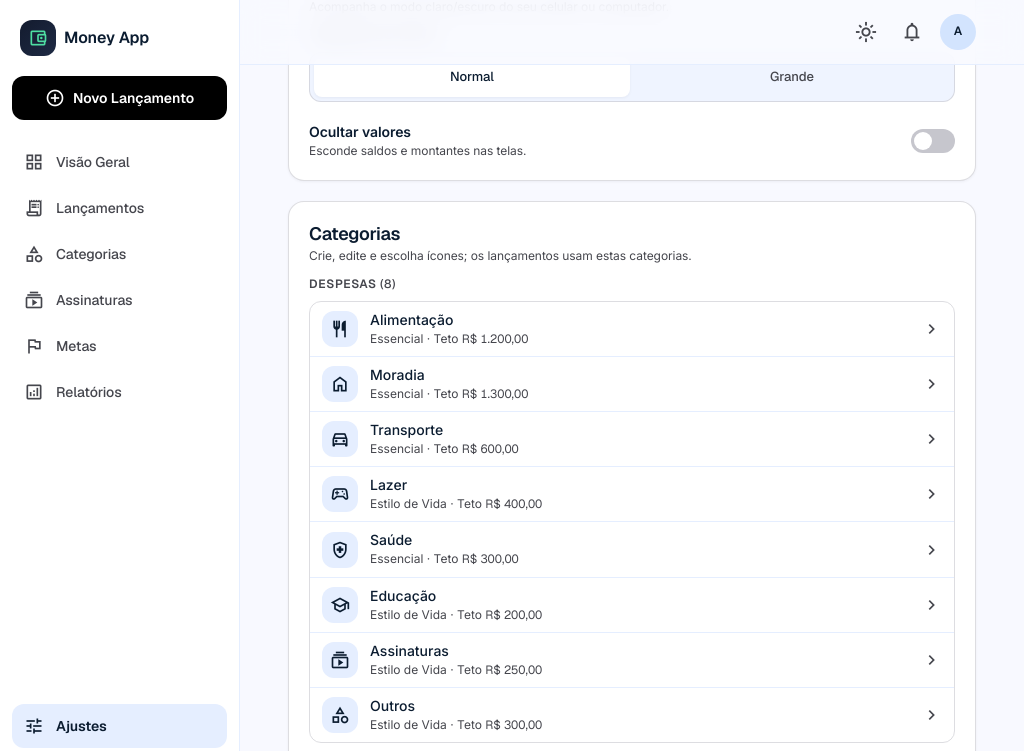
categorias em Ajustes › restaura uma categoria padrão excluída sem duplicar as existentes
The width and height of the screenshot is (1024, 751).
(page scrolled)
Step 1. Click the button with aria-label "Editar categoria Moradia" → (340, 384), box [310,357,954,411]
(page scrolled)
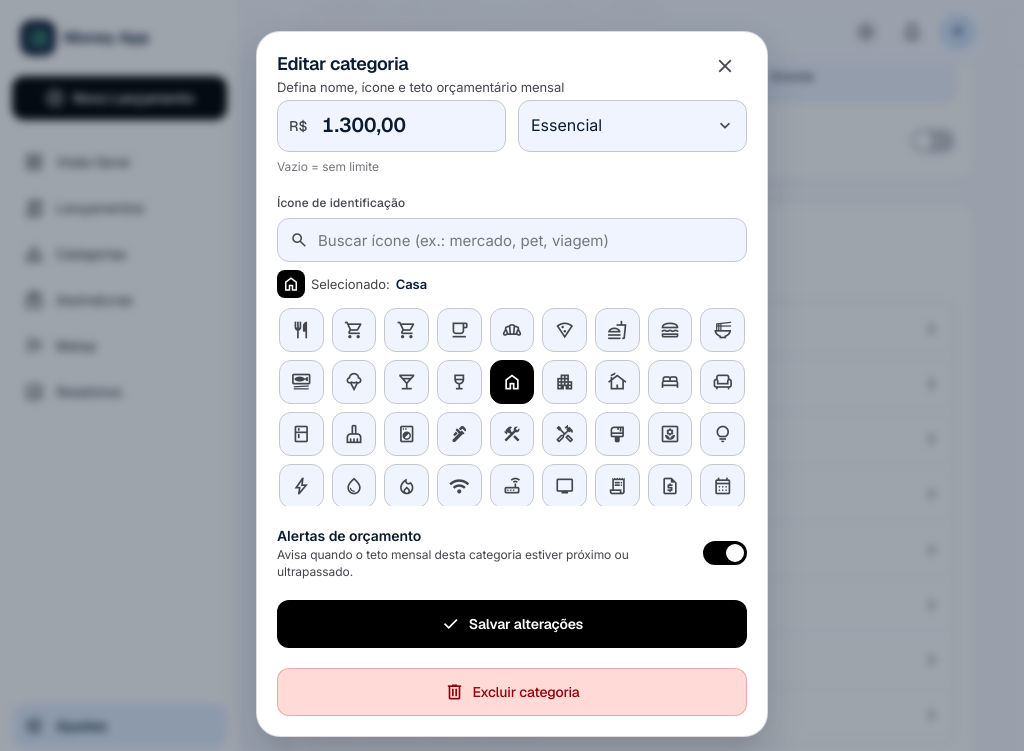
Step 2. Click the button "Excluir categoria" → (512, 692), box [277,668,747,716]
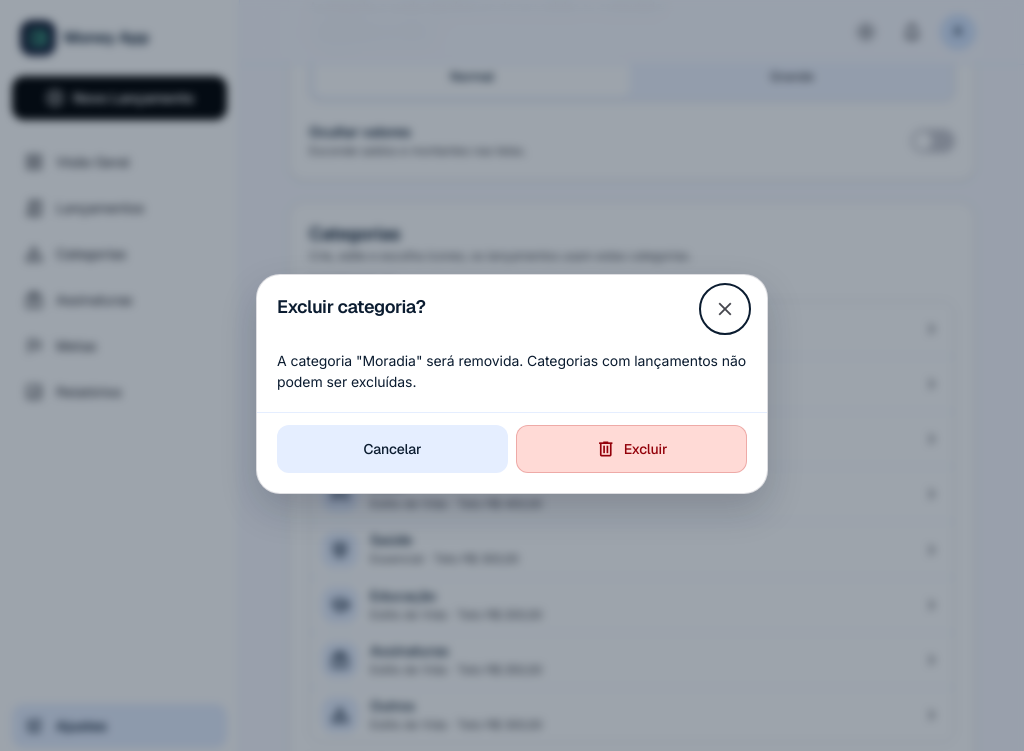
Step 3. Click the button "Excluir" → (632, 448), box [516,424,747,472]
(page scrolled)
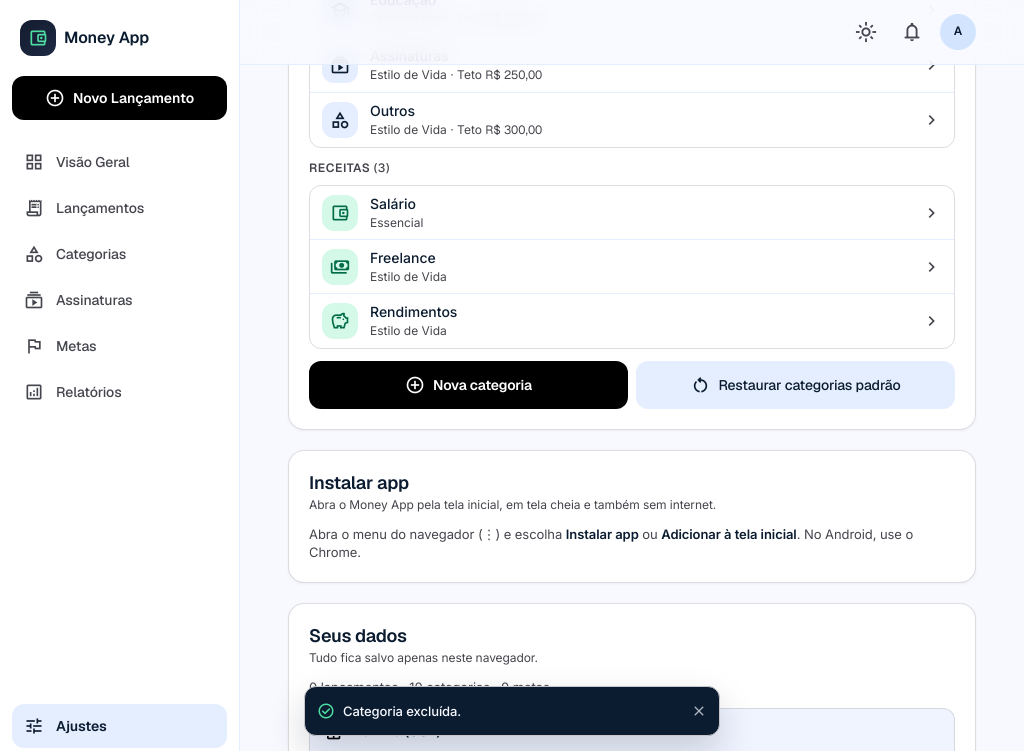
Step 4. Click the button "Restaurar categorias padrão" → (796, 385), box [636,361,955,409]
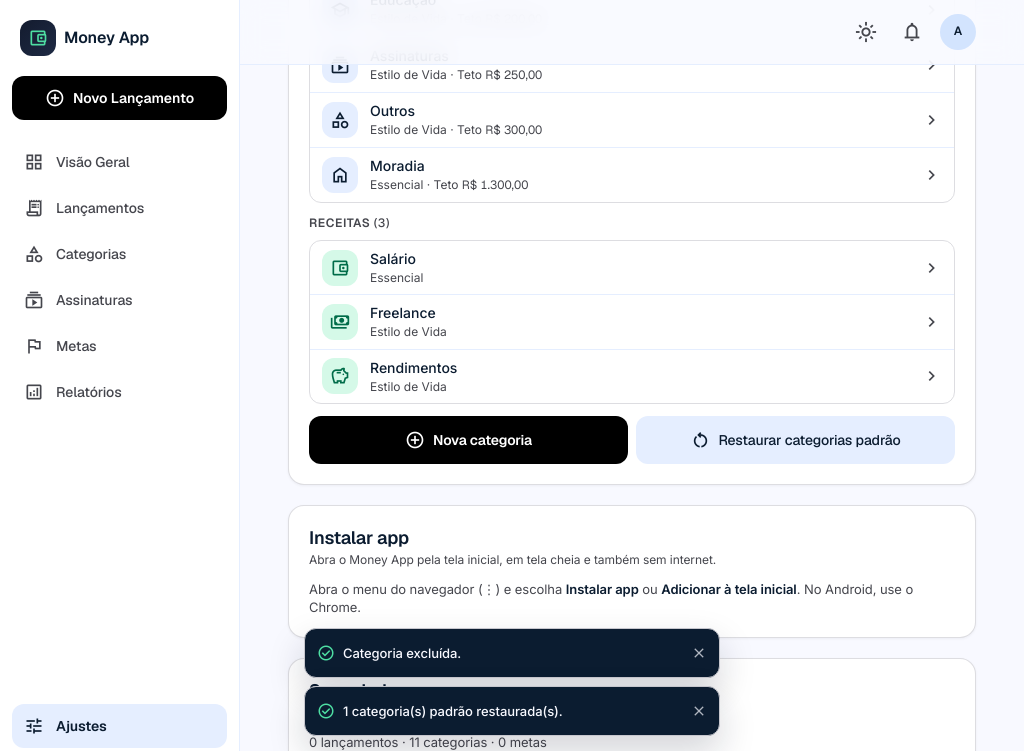
Check: the text "1 categoria(s) padrão restaurada(s)." is shown, box [343,703,563,719]
Check: the button with aria-label "Editar categoria Moradia" is shown, box [310,148,954,202]
Step 5. Click the button "Restaurar categorias padrão" → (796, 440), box [636,416,955,464]
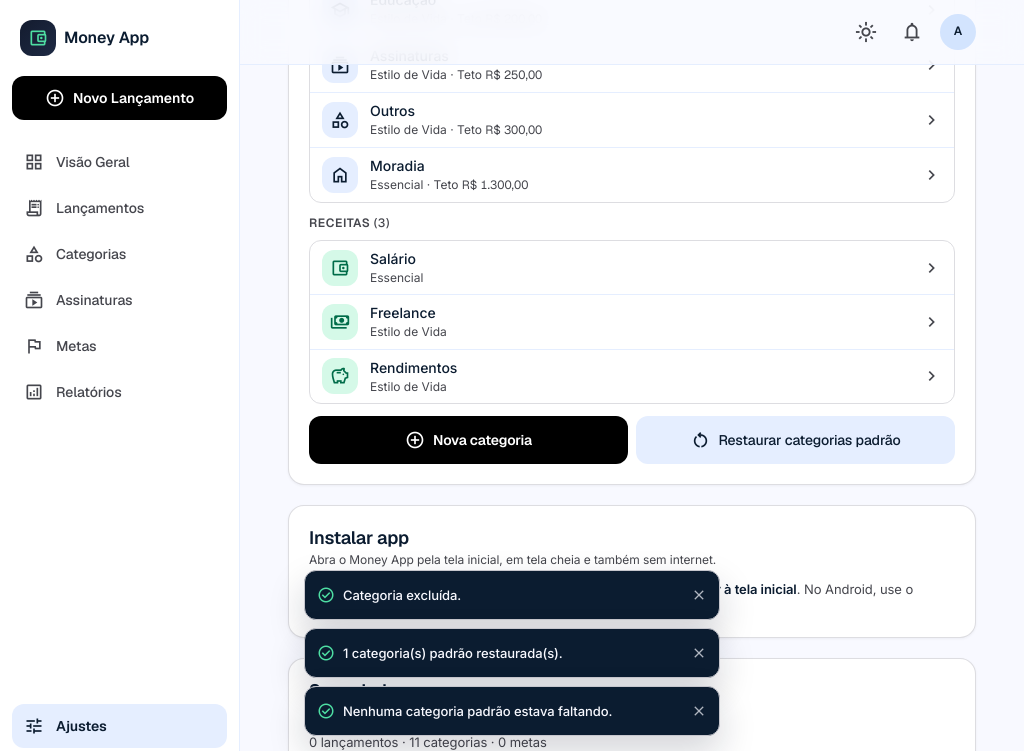
Check: the text "Nenhuma categoria padrão estava faltando." is shown, box [343,703,612,719]
